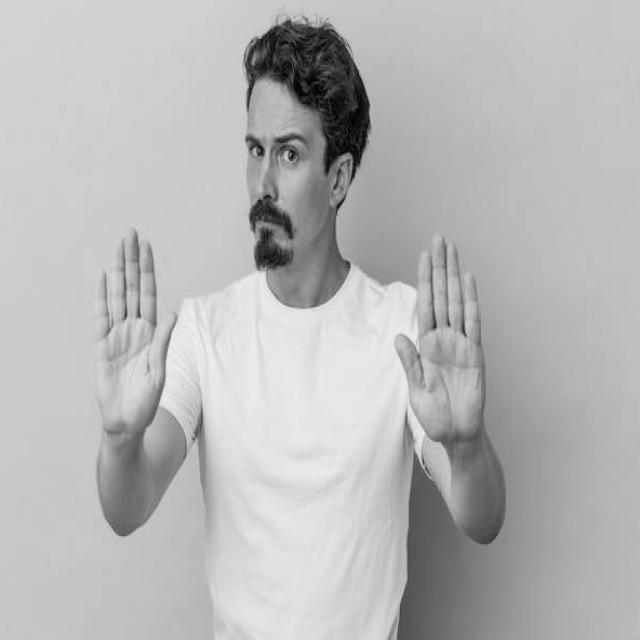stop: (388, 227, 491, 455), (89, 220, 182, 447)
